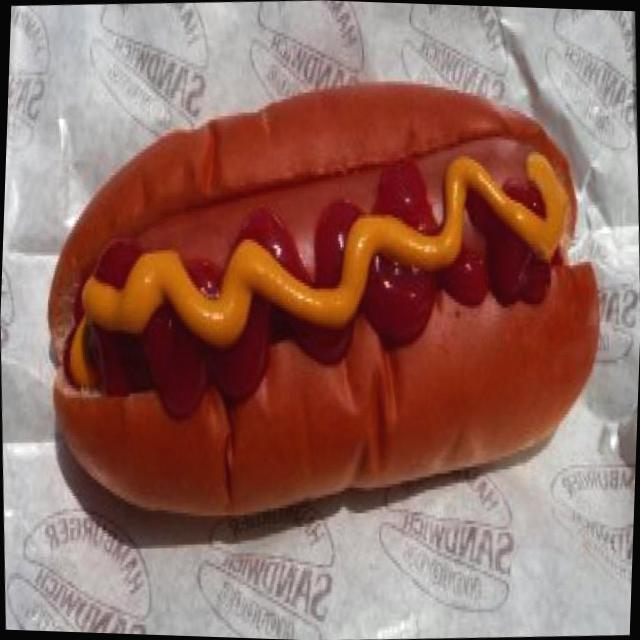Hot Dog: (19, 31, 626, 558)
